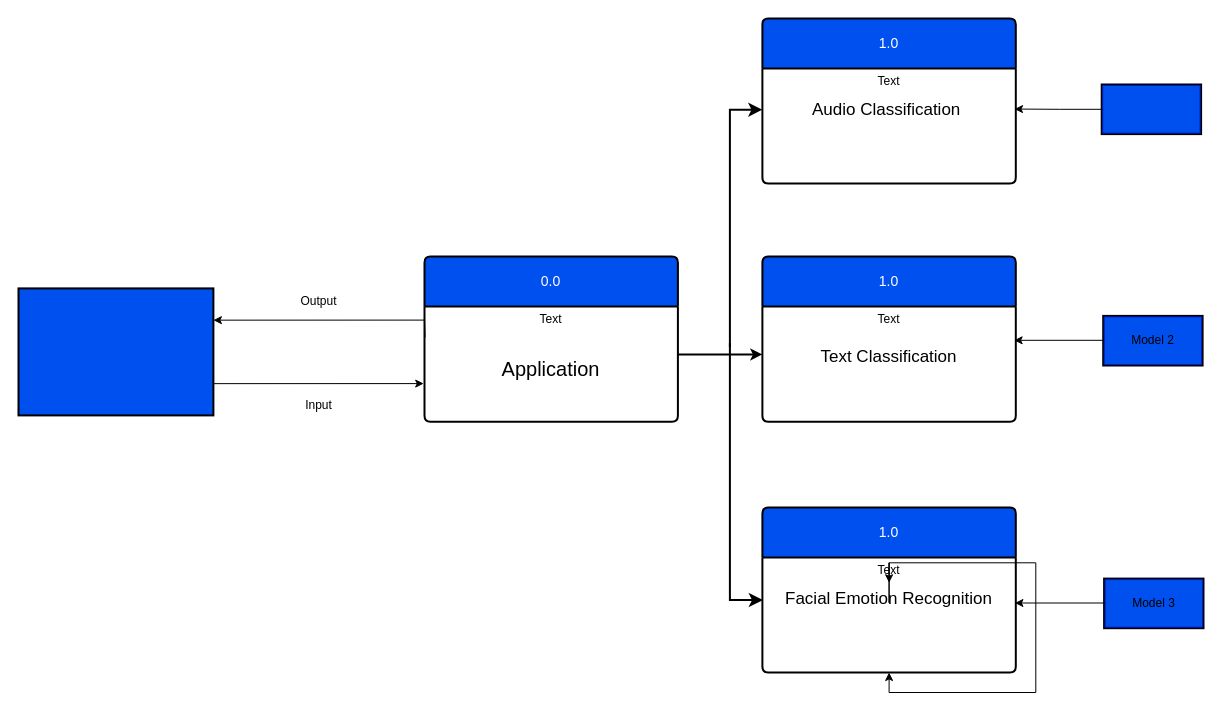
The diagram is 1221 pixels wide and 718 high, and some of its shapes have lost their labels. The shapes that lost their labels are listed below. From the top down, each one's box as (x1, y1, x2, y2) in pixels, then its label:
(1102, 84, 1200, 133): Model 1
(17, 287, 214, 416): User
